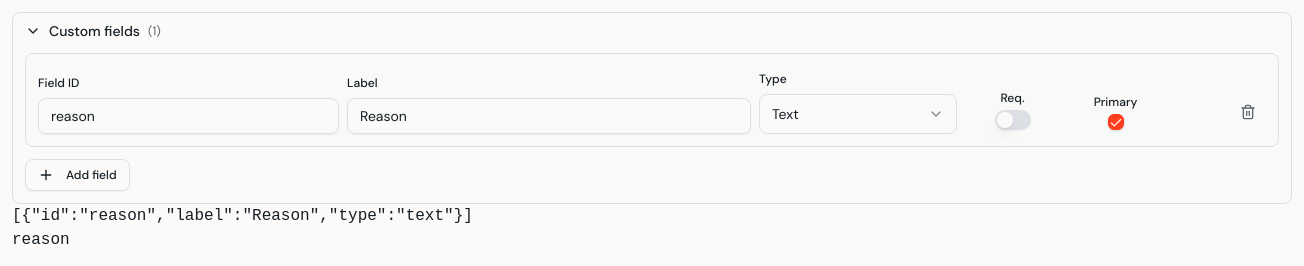
Scenario: RequiredFieldsEditor — primary field › sync: editing the primary row's id updates primary_field_id in lockstep
This screenshot has width=1304, height=266.
Replace the text in the field with test id "rfe-row-0-id" with "justification" at (188, 116), box 38,98 -> 339,134
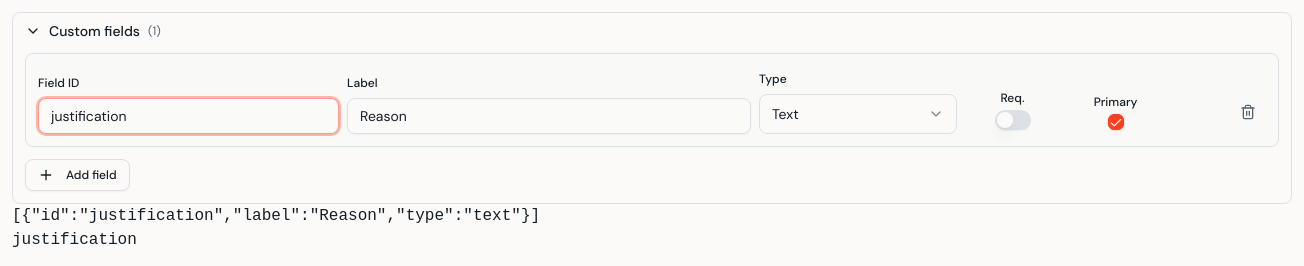
Check: the text with test id "primary-dump" reads "justification", box 12,231 -> 137,249
